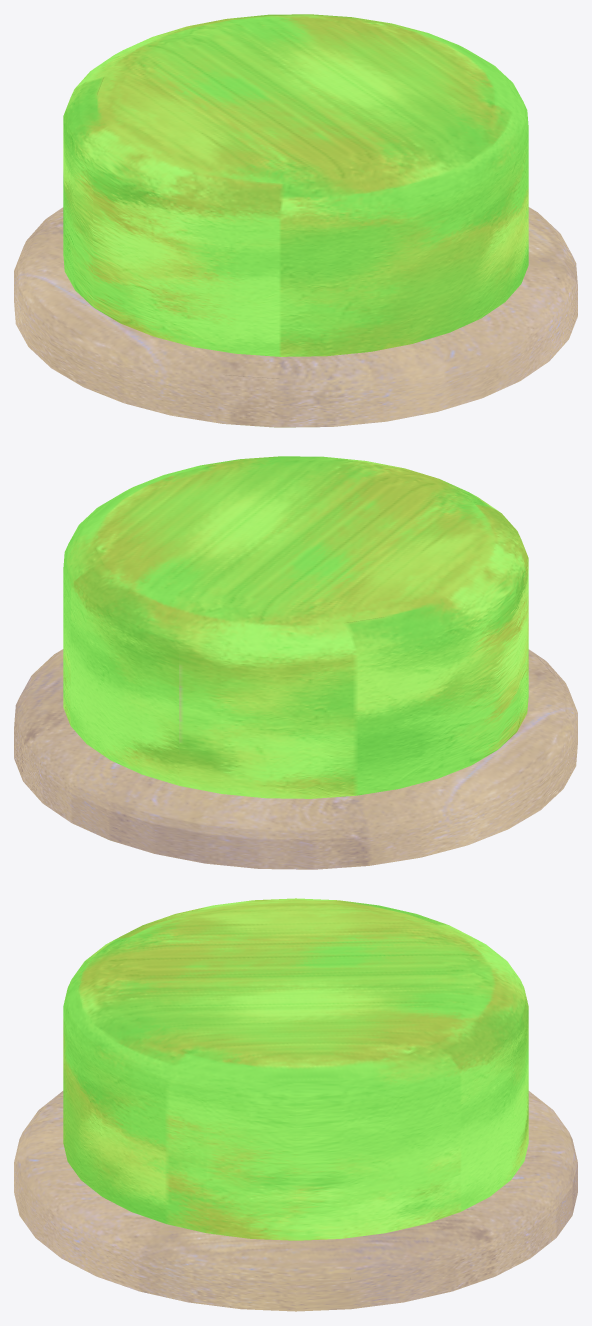
File: Button_done.fbx
3 views of the same model, one above another, from view 1: azimuth 30°, elevation 25°; view 2: azimuth 150°, elevation 25°; view 3: azimuth 270°, elevation 25° (orthographic).
Parts seen in each view (by area): view 1: Button; view 2: Button; view 3: Button.
Boxes of the visible parts, bbox=[...] form: Button: bbox=[14, 14, 577, 427]; Button: bbox=[14, 456, 577, 869]; Button: bbox=[14, 898, 577, 1311].
Size of the model in its own units: 0.4008 by 0.4008 by 0.1678.
